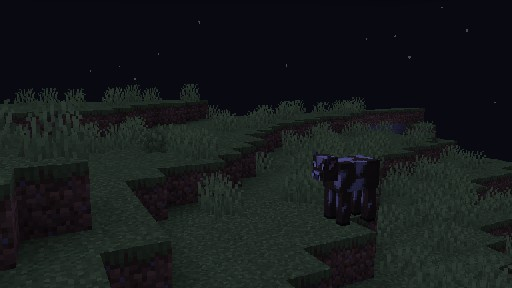cow: (311, 150, 379, 226)
